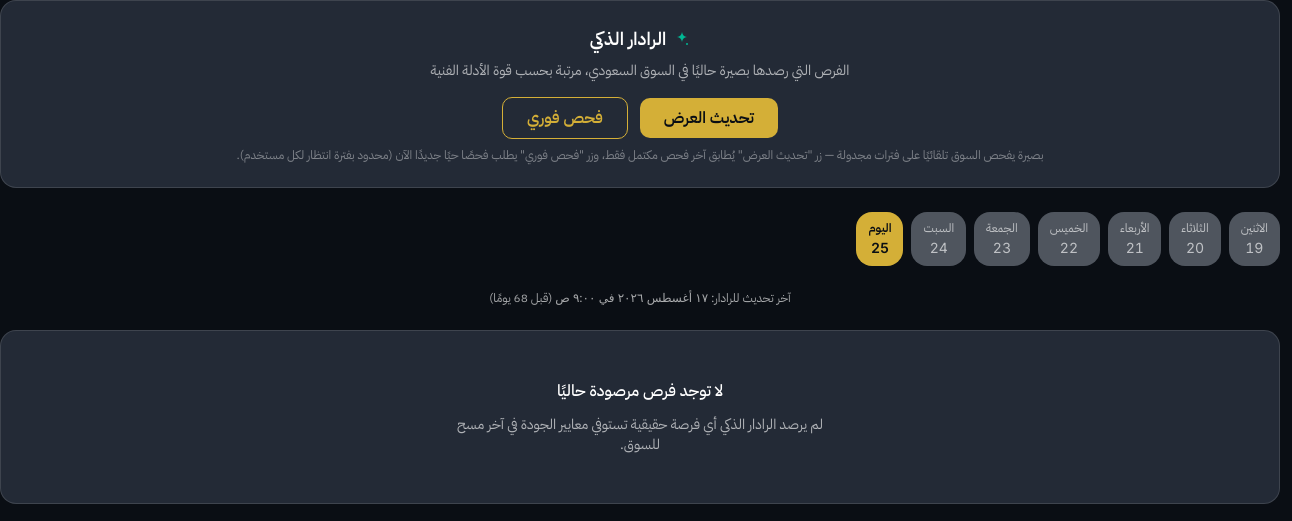
RadarPage › day browsing › distinguishes a real 'no scan that day' from 'scan ran, zero buy candidates'
The width and height of the screenshot is (1292, 521).
Expected: the text "لا توجد فرص مرصودة حاليًا" is shown, [557,379,723,403]
Step 1. Click the tab "الجمعة 23" → point(1002, 239), box [974,212,1030,266]
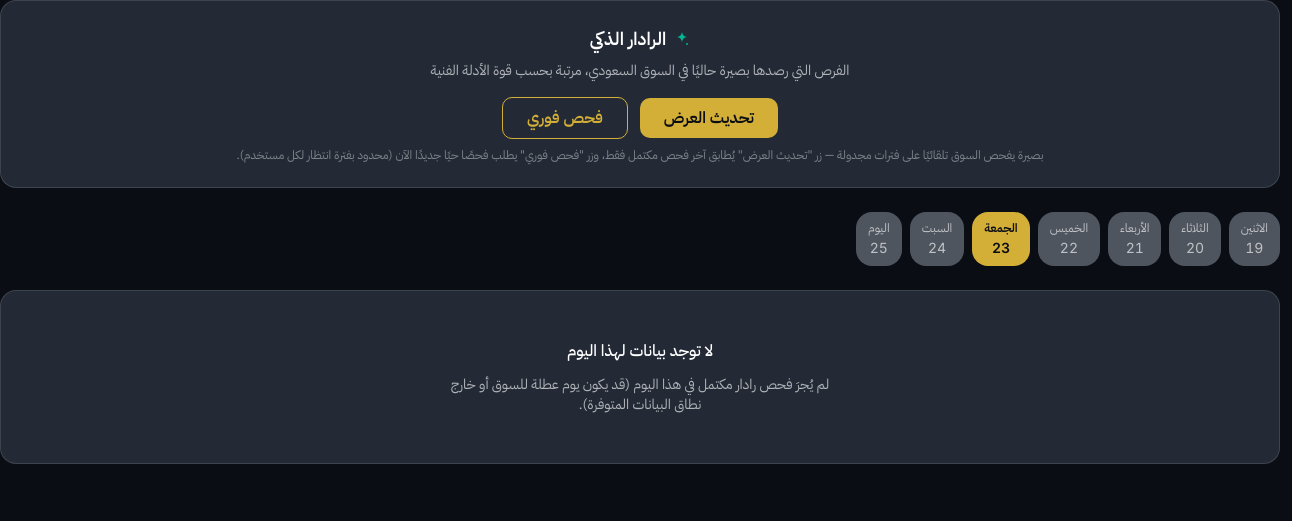
Now the text "لا توجد بيانات لهذا اليوم" is shown, box [567,339,713,363]
